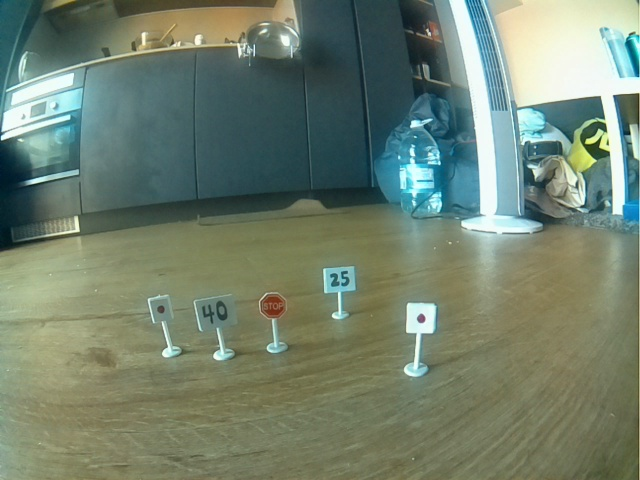red light: (406, 301, 436, 334), (149, 296, 173, 323)
speed 25: (324, 267, 355, 291)
speed 40: (194, 299, 235, 329)
stop: (259, 291, 288, 320)
